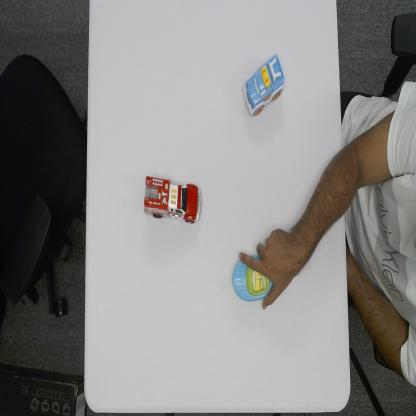Arm: (293, 150, 344, 269)
Boat: (231, 253, 274, 305)
Car: (242, 51, 285, 118)
Firetruck: (143, 174, 202, 226)
Hand: (239, 228, 295, 312)
